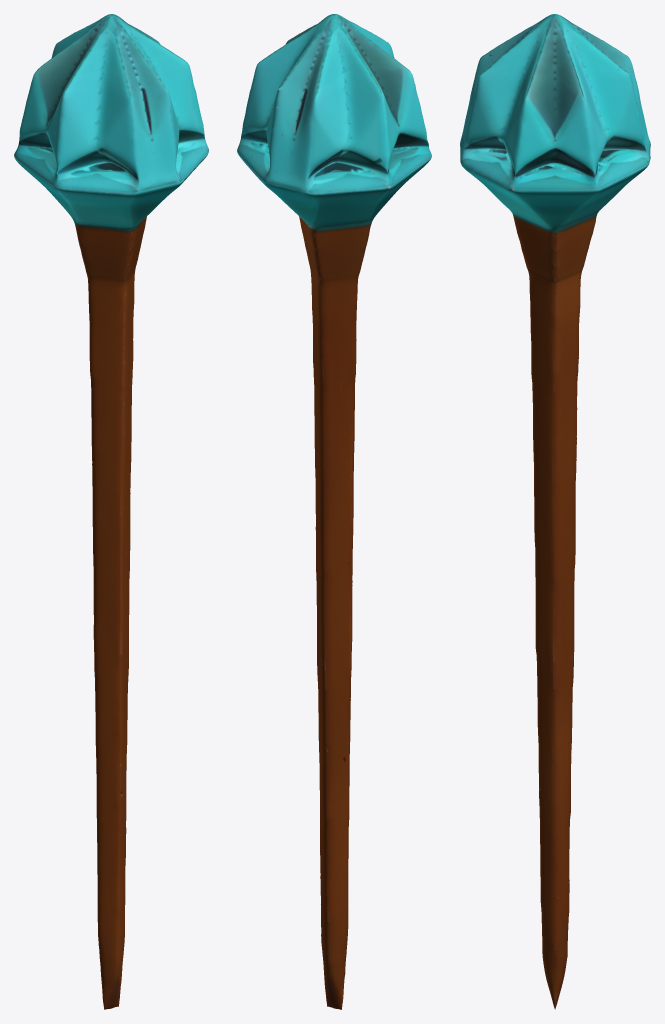
File: Crystal Staff.fbx
3 renders of one model, left to right at view 1: azimuth 30°, elevation 25°; view 2: azimuth 150°, elevation 25°; view 3: azimuth 270°, elevation 25°, orthographic.
Visible parts, largest first — view 1: Crystal Staff; view 2: Crystal Staff; view 3: Crystal Staff.
Part boxes in pixels (<box>): Crystal Staff: <box>14,14,208,1009</box>; Crystal Staff: <box>237,14,431,1009</box>; Crystal Staff: <box>460,14,650,1009</box>.
Bounding box in the file's own units: 30.55 × 189 × 32.91.
Materials: 1 (1 with a texture image).
